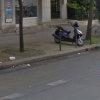Motorcycle: (48, 21, 90, 51)
